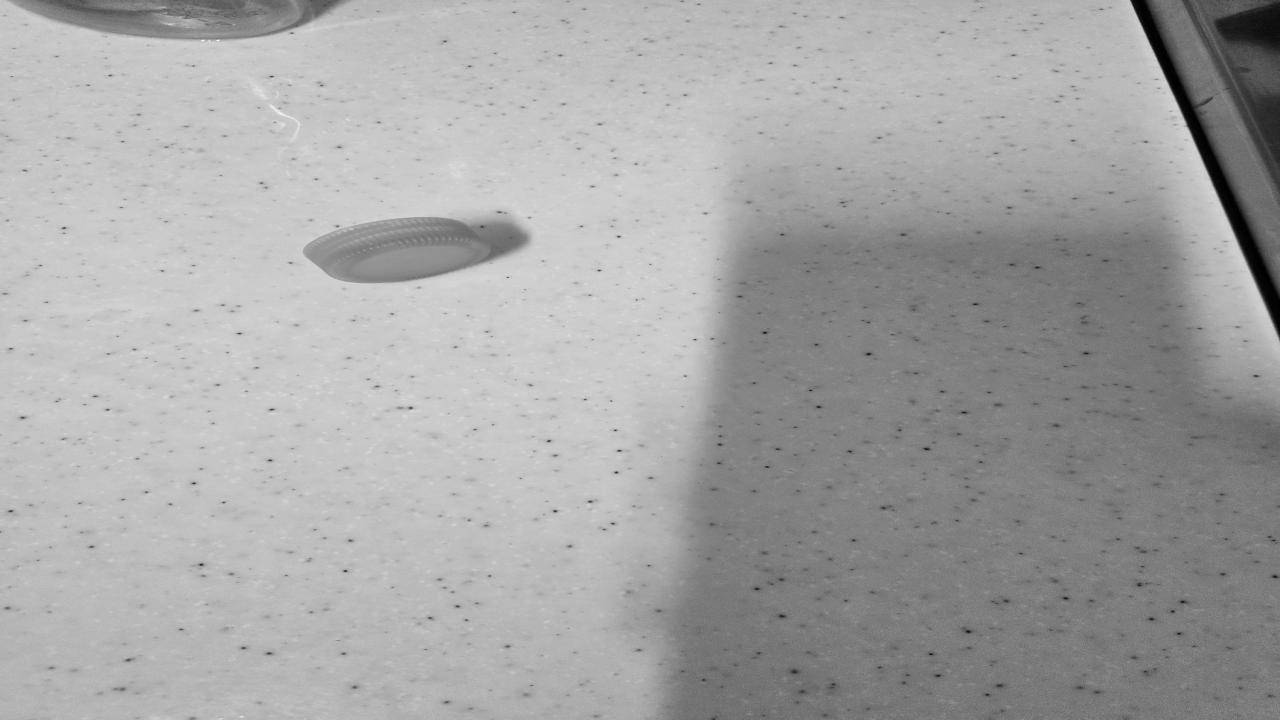bottle_cap: (307, 218, 480, 281)
